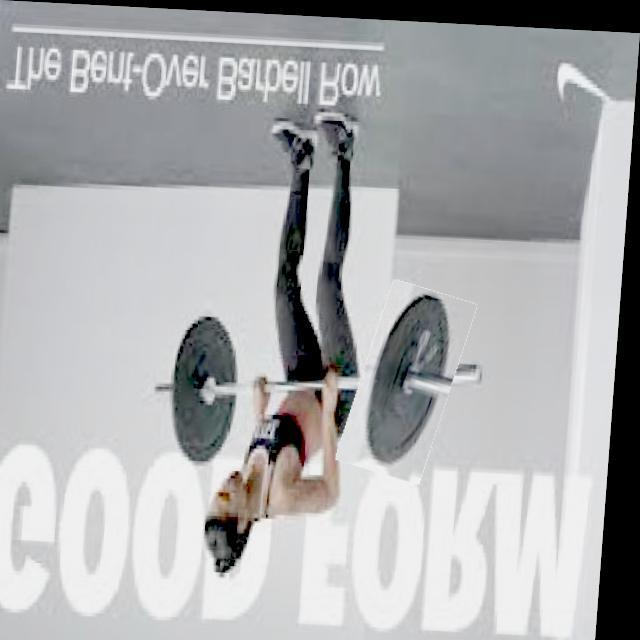barbell: (353, 278, 473, 477)
